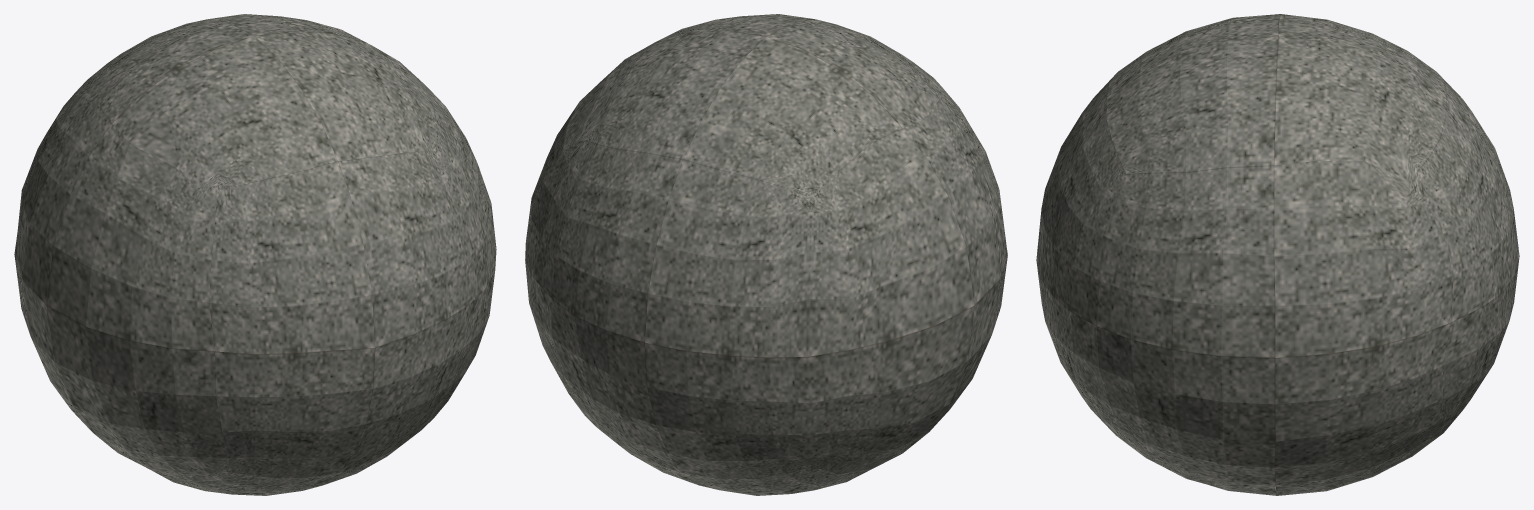
Rendered from SM_EC_Rock_Template_Sphere.fbx.
3 views of the same model, side by side, from view 1: azimuth 30°, elevation 25°; view 2: azimuth 150°, elevation 25°; view 3: azimuth 270°, elevation 25° (orthographic).
Visible parts, largest first — view 1: SM_EC_Rock_Template_Sphere; view 2: SM_EC_Rock_Template_Sphere; view 3: SM_EC_Rock_Template_Sphere.
Part boxes in pixels (bbox=[...]): SM_EC_Rock_Template_Sphere: bbox=[14, 14, 496, 495]; SM_EC_Rock_Template_Sphere: bbox=[525, 14, 1007, 495]; SM_EC_Rock_Template_Sphere: bbox=[1036, 14, 1519, 495].
Bounding box in the file's own units: 2 × 2 × 2.
